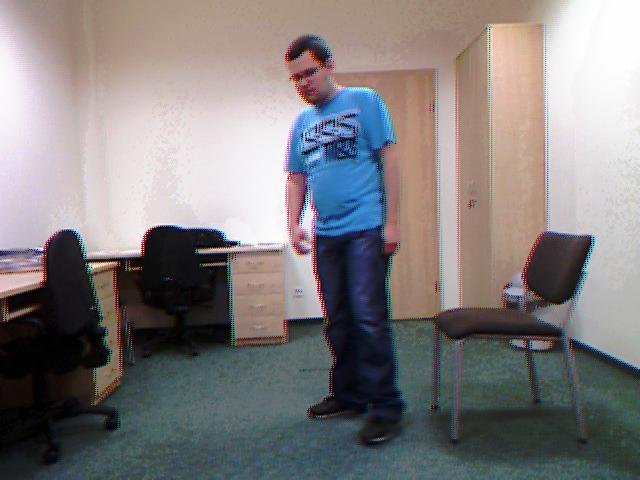standing: (267, 22, 422, 454)
